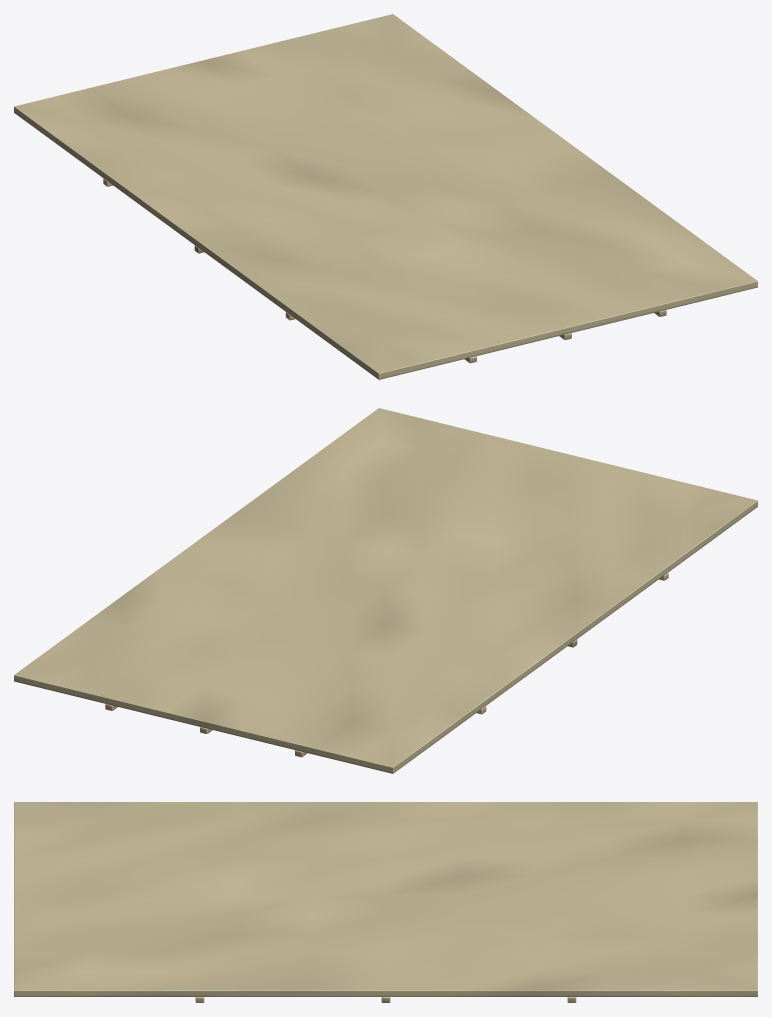
Rendered from SM_Lobby_Ceiling.fbx.
3 renders of one model, top to bottom at view 1: azimuth 30°, elevation 25°; view 2: azimuth 150°, elevation 25°; view 3: azimuth 270°, elevation 25°, orthographic.
Visible parts, largest first — view 1: SM_Lobby_Ceiling; view 2: SM_Lobby_Ceiling; view 3: SM_Lobby_Ceiling.
Part boxes in pixels (bbox=[...]): SM_Lobby_Ceiling: bbox=[14, 14, 757, 379]; SM_Lobby_Ceiling: bbox=[14, 408, 757, 773]; SM_Lobby_Ceiling: bbox=[14, 802, 757, 1002].
Size of the model in its own units: 1200 by 38.06 by 2000.
